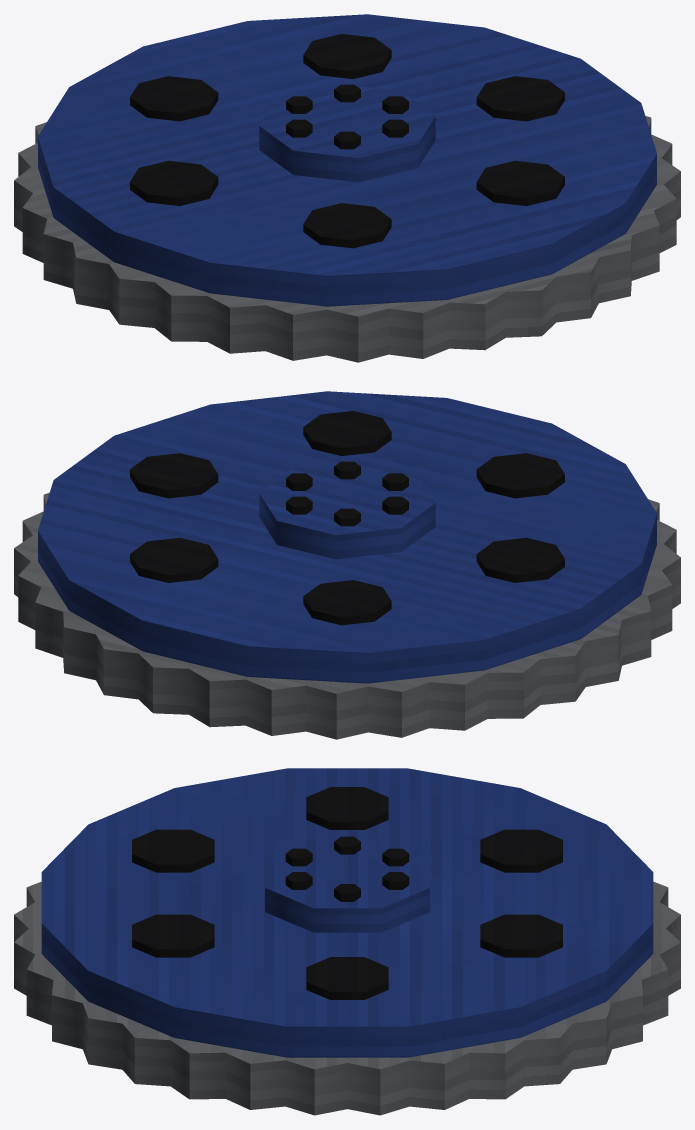
File: volante_motor_n2.glb
3 views of the same model, one above another, from view 1: azimuth 30°, elevation 25°; view 2: azimuth 150°, elevation 25°; view 3: azimuth 270°, elevation 25° (orthographic).
Visible parts, largest first — view 1: volante_motor_n2; view 2: volante_motor_n2; view 3: volante_motor_n2.
Boxes of the visible parts, x1=… form: volante_motor_n2: x1=14, y1=14, x2=680, y2=362; volante_motor_n2: x1=14, y1=391, x2=680, y2=739; volante_motor_n2: x1=14, y1=768, x2=680, y2=1115.
Size of the model in its own units: 0.2986 by 0.054 by 0.2986.
Materials: 1 (1 with a texture image).
